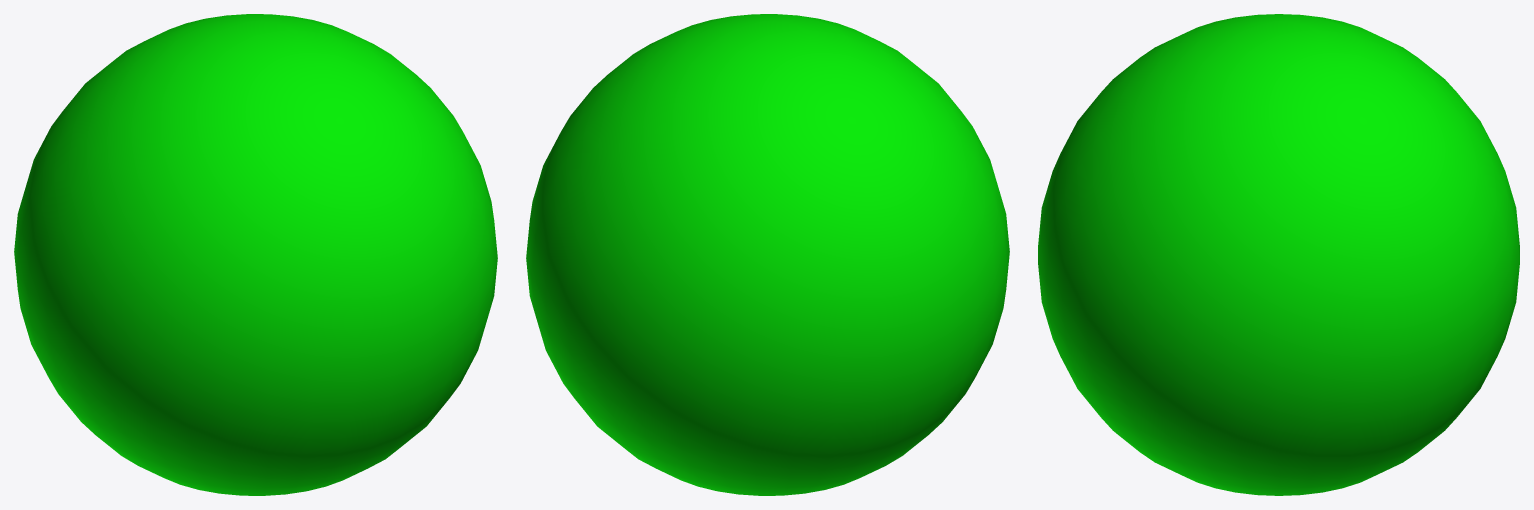
The model's file is greenMissile.fbx.
The picture shows the model from 3 angles, left to right: view 1: azimuth 30°, elevation 25°; view 2: azimuth 150°, elevation 25°; view 3: azimuth 270°, elevation 25°; orthographic projection.
Parts seen in each view (by area): view 1: Sphere; view 2: Sphere; view 3: Sphere.
Boxes of the visible parts, bbox=[...] form: Sphere: bbox=[14, 14, 497, 495]; Sphere: bbox=[526, 14, 1009, 495]; Sphere: bbox=[1038, 14, 1519, 495].
Bounding box in the file's own units: 20 × 20 × 19.91.
